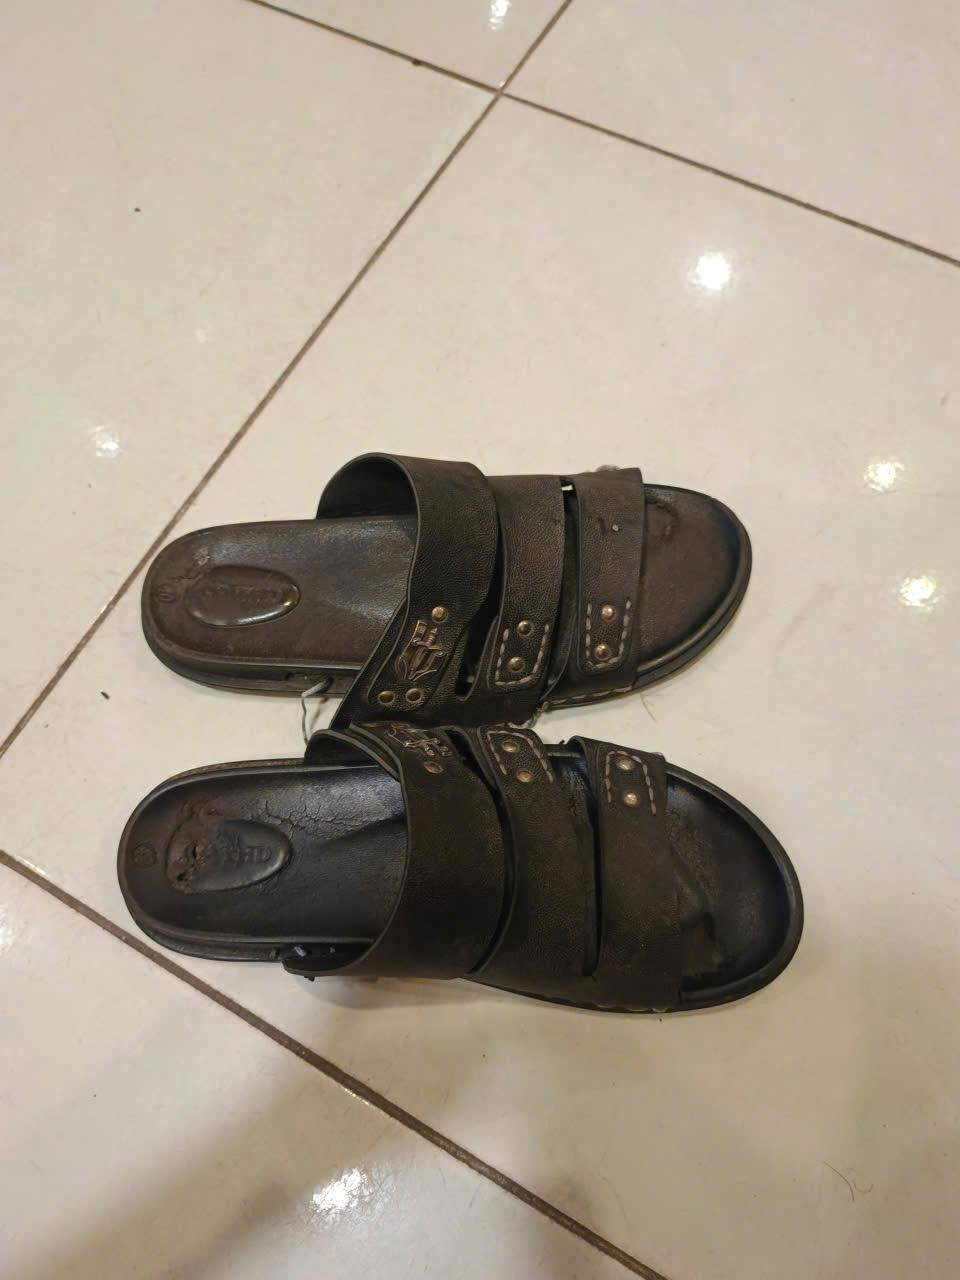Con lai: (113, 726, 804, 1017), (137, 445, 754, 729)
